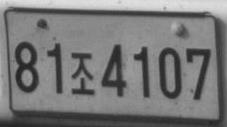0: (157, 46, 182, 98)
1: (44, 41, 70, 94), (130, 45, 155, 97)
4: (100, 43, 127, 97)
7: (185, 47, 211, 99)
8: (14, 40, 39, 92)
조: (70, 51, 95, 94)
